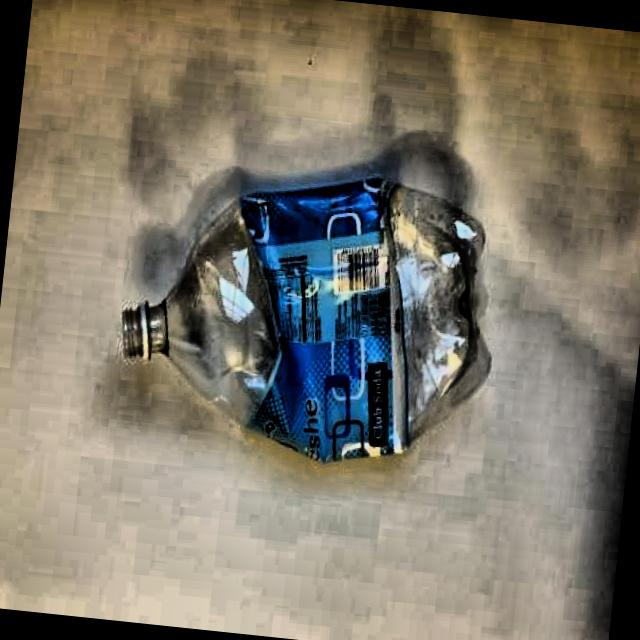plastic bottle: (123, 177, 490, 462)
